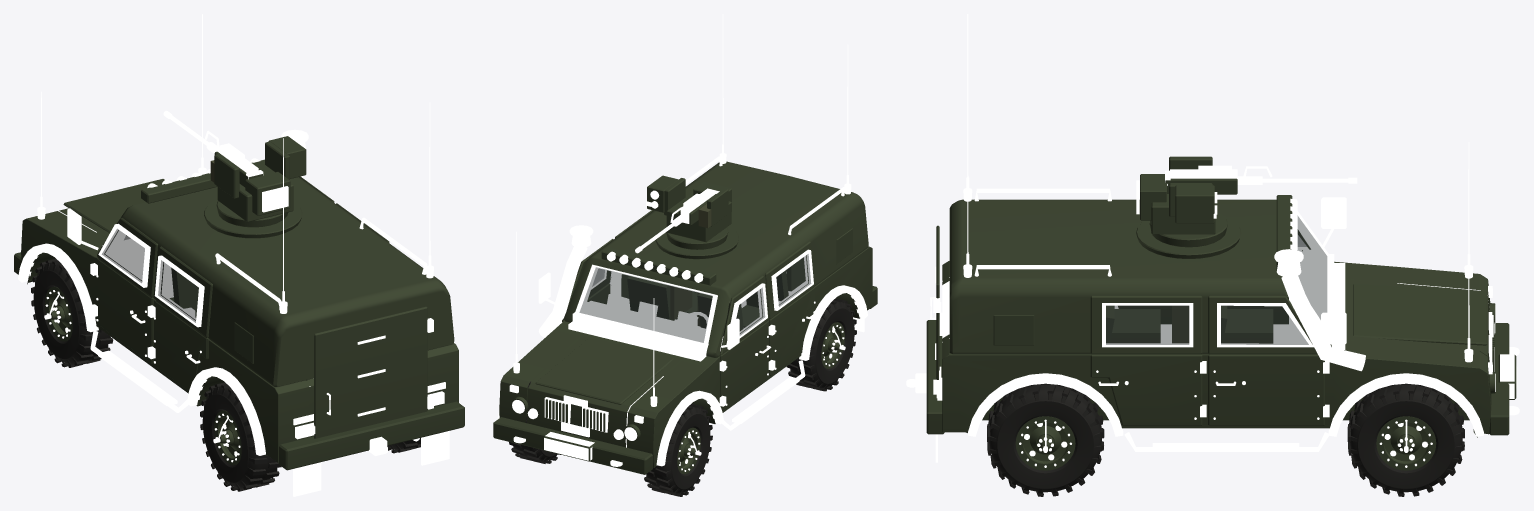
File: iveco_lmv.glb
The picture shows the model from 3 angles, left to right: view 1: azimuth 30°, elevation 25°; view 2: azimuth 150°, elevation 25°; view 3: azimuth 270°, elevation 25°; orthographic projection. The views are drawn at different scales.
Parts seen in each view (by area): view 1: Body_LOD0, Door_Rear_LOD0, Door_FL_LOD0, Door_RL_LOD0, Wheel_L2_LOD0, Wheel_L1_LOD0, RWS_LOD0, RWS_Gun_LOD0; view 2: Body_LOD0, Door_RL_LOD0, Door_FL_LOD0, Wheel_L1_LOD0, Wheel_L2_LOD0, RWS_LOD0, RWS_Gun_LOD0, Door_FR_LOD0, Wheel_R1_LOD0; view 3: Body_LOD0, Door_FR_LOD0, Door_RR_LOD0, Wheel_R1_LOD0, Wheel_R2_LOD0, RWS_LOD0, RWS_Gun_LOD0, Door_Rear_LOD0.
Part boxes in pixels (bbox=[...]): Body_LOD0: bbox=[14, 14, 464, 496]; Door_Rear_LOD0: bbox=[314, 306, 433, 438]; Door_FL_LOD0: bbox=[90, 217, 157, 364]; Door_RL_LOD0: bbox=[147, 246, 212, 390]; Wheel_L2_LOD0: bbox=[200, 382, 281, 491]; Wheel_L1_LOD0: bbox=[31, 258, 113, 367]; RWS_LOD0: bbox=[214, 141, 293, 227]; RWS_Gun_LOD0: bbox=[163, 110, 306, 187]; Body_LOD0: bbox=[493, 14, 877, 474]; Door_RL_LOD0: bbox=[765, 241, 817, 375]; Door_FL_LOD0: bbox=[719, 275, 771, 410]; Wheel_L1_LOD0: bbox=[644, 403, 712, 496]; Wheel_L2_LOD0: bbox=[786, 298, 856, 391]; RWS_LOD0: bbox=[664, 178, 731, 249]; RWS_Gun_LOD0: bbox=[635, 175, 719, 253]; Door_FR_LOD0: bbox=[558, 239, 613, 325]; Wheel_R1_LOD0: bbox=[509, 381, 560, 463]; Body_LOD0: bbox=[906, 14, 1519, 462]; Door_FR_LOD0: bbox=[1208, 295, 1329, 425]; Door_RR_LOD0: bbox=[1090, 295, 1206, 425]; Wheel_R1_LOD0: bbox=[1347, 383, 1464, 496]; Wheel_R2_LOD0: bbox=[987, 383, 1104, 496]; RWS_LOD0: bbox=[1136, 156, 1227, 247]; RWS_Gun_LOD0: bbox=[1165, 165, 1357, 223]; Door_Rear_LOD0: bbox=[930, 225, 940, 394].
Size of what is drawn, in the model's own units: 2.46 by 3.88 by 5.44.
